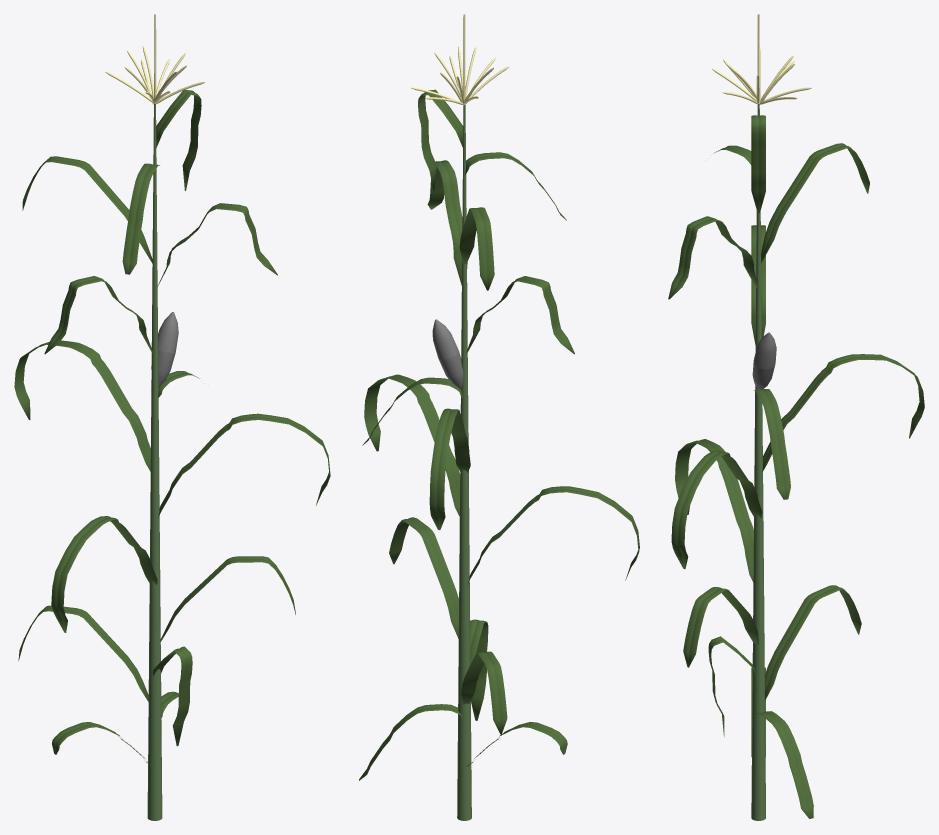
File: 3D_Corn.gltf
The picture shows the model from 3 angles, left to right: view 1: azimuth 30°, elevation 25°; view 2: azimuth 150°, elevation 25°; view 3: azimuth 270°, elevation 25°; orthographic projection.
Parts seen in each view (by area): view 1: Stalk, Leaf2 (×3), Leaf5 (×3), Leaf3 (×2), Leaf1 (×2), Leaf4 (×2), Cob; view 2: Leaf2 (×3), Stalk, Leaf5 (×3), Leaf4 (×2), Leaf3 (×2), Leaf1 (×3), Cob (×2); view 3: Leaf2 (×3), Stalk, Leaf5 (×3), Leaf1 (×2), Leaf4 (×2), Leaf3 (×2), Cob.
Part boxes in pixels (x1=…): Stalk: x1=147, y1=104, x2=162, y2=820; Leaf2 (×3): x1=14, y1=340, x2=330, y2=632; Leaf5 (×3): x1=18, y1=156, x2=295, y2=702; Leaf3 (×2): x1=153, y1=90, x2=201, y2=746; Leaf1 (×2): x1=52, y1=163, x2=159, y2=766; Leaf4 (×2): x1=44, y1=203, x2=277, y2=354; Cob: x1=158, y1=312, x2=178, y2=352; Leaf2 (×3): x1=364, y1=374, x2=639, y2=584; Stalk: x1=457, y1=105, x2=471, y2=820; Leaf5 (×3): x1=389, y1=207, x2=507, y2=734; Leaf4 (×2): x1=427, y1=160, x2=574, y2=354; Leaf3 (×2): x1=418, y1=89, x2=488, y2=720; Leaf1 (×3): x1=359, y1=152, x2=567, y2=780; Cob (×2): x1=432, y1=319, x2=463, y2=389; Leaf2 (×3): x1=671, y1=354, x2=924, y2=582; Stalk: x1=751, y1=104, x2=765, y2=820; Leaf5 (×3): x1=683, y1=143, x2=869, y2=700; Leaf1 (×2): x1=754, y1=389, x2=813, y2=818; Leaf4 (×2): x1=668, y1=216, x2=765, y2=344; Leaf3 (×2): x1=708, y1=115, x2=765, y2=736; Cob: x1=753, y1=332, x2=776, y2=369.
Size of the model in its own units: 0.7678 by 2.13 by 0.6177.
